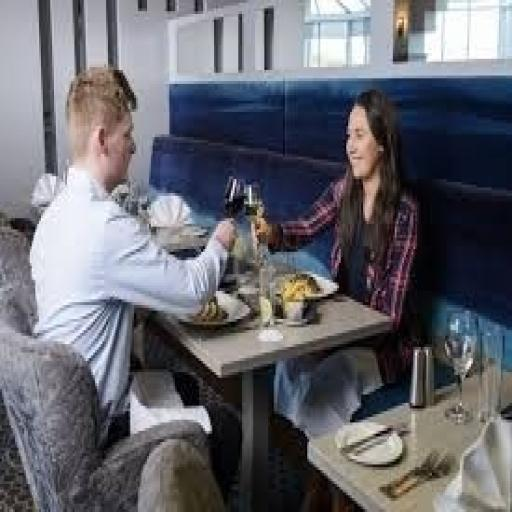eating: (26, 56, 425, 498)
